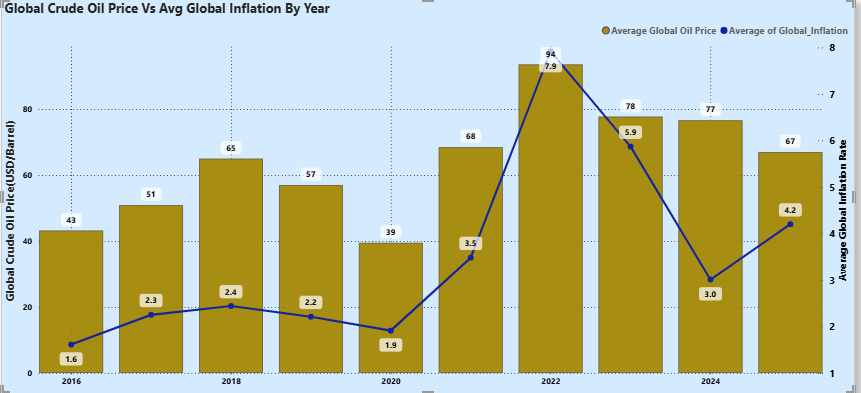

Layout of this report page (visuals, bound fields, positions):
{"tool":"powerbi","page":{"name":"Global Oil Price Vs Inflation","canvas":[1280,720],"ordinal":0},"visuals":[{"type":"shape","box":[26.9,0,1253.1,62.2],"z":0},{"type":"textbox","box":[129.3,6.7,898.7,55.4],"z":1000},{"type":"lineClusteredColumnComboChart","title":"Global Crude Oil Price Vs  Avg Global Inflation By Year","fields":{"Category":["Phase1_dfdata.Year Hierarchy.Year"],"Y":["Sum(Phase1_dfdata.WTI - Global Oil Price)"],"Y2":["Avg(Phase1_dfdata.Global_Inflation)"]},"box":[27.1,62.9,1235.7,621.4],"z":2000}]}

Visuals, with their boxes on the page's 1280x720 design canvas (x1, y1, x2, y2). These are canvas units, not pixel positions in the 861x393 screenshot, which may show the page scaled, cropped or inside an application window:
shape: <region>27, 0, 1280, 62</region>
textbox: <region>129, 7, 1028, 62</region>
"Global Crude Oil Price Vs  Avg Global Inflation By Year" lineClusteredColumnComboChart: <region>27, 63, 1263, 684</region>
